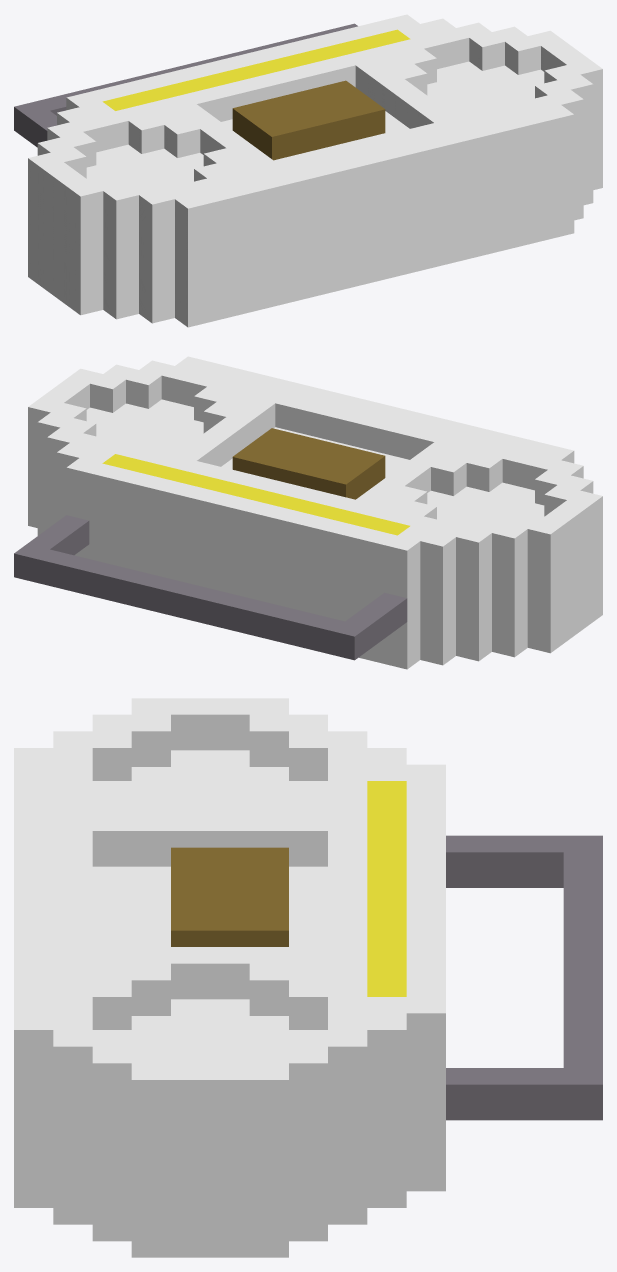
Rendered from mangianastri.gltf.
The picture shows the model from 3 angles, top to bottom: view 1: azimuth 30°, elevation 25°; view 2: azimuth 150°, elevation 25°; view 3: azimuth 270°, elevation 25°; orthographic projection. The views are drawn at different scales.
Parts seen in each view (by area): view 1: Layer.1, Layer.3, Layer.5, Layer.2; view 2: Layer.1, Layer.2, Layer.3, Layer.5; view 3: Layer.1, Layer.2, Layer.3, Layer.5.
Boxes of the visible parts, x1,y1,x2,y2 form: Layer.1: (28, 14, 602, 327); Layer.3: (232, 80, 385, 160); Layer.5: (102, 29, 410, 110); Layer.2: (14, 23, 357, 147); Layer.1: (28, 356, 602, 669); Layer.2: (14, 515, 407, 660); Layer.3: (232, 428, 385, 499); Layer.5: (102, 454, 409, 535); Layer.1: (14, 698, 445, 1257); Layer.2: (446, 835, 602, 1120); Layer.3: (171, 847, 288, 946); Layer.5: (367, 781, 406, 996).
Bounding box in the file's own units: 23 × 5 × 15.
1 material, 1 textured.
